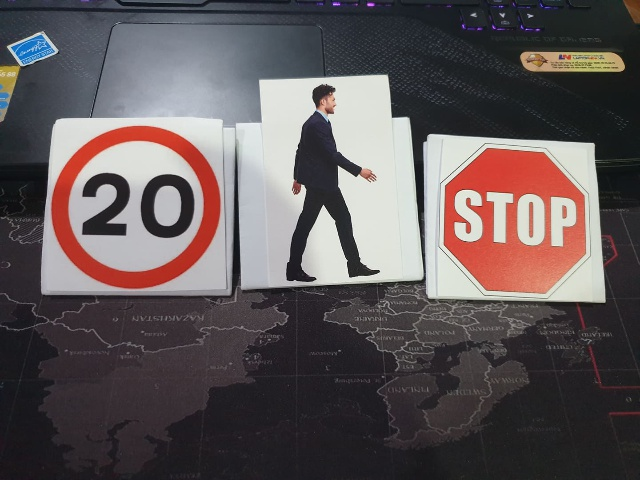Limit 20: (53, 122, 222, 288)
Person: (258, 77, 386, 279)
Stop: (432, 140, 597, 303)
